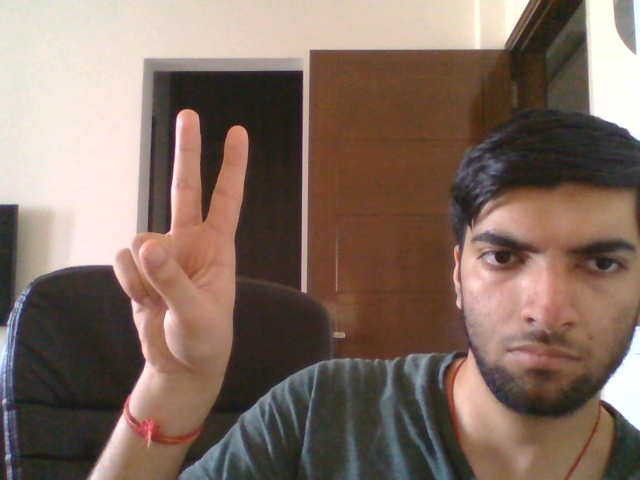LetterV: (110, 105, 251, 386)
